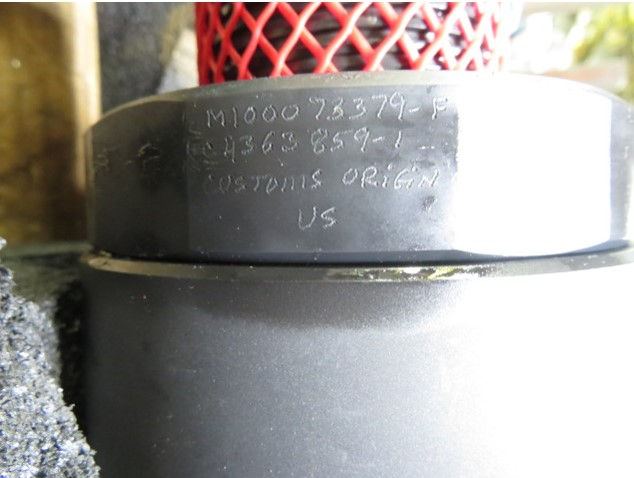character: (317, 203, 345, 234), (294, 202, 320, 234), (417, 166, 445, 193), (387, 89, 409, 121), (307, 127, 329, 157), (431, 94, 455, 121), (259, 128, 280, 158), (280, 97, 303, 124), (206, 106, 229, 131), (280, 171, 306, 193), (371, 90, 390, 120), (348, 96, 370, 121), (331, 128, 352, 154), (352, 125, 372, 152), (310, 93, 329, 121), (281, 128, 300, 155), (329, 94, 348, 121), (248, 170, 266, 197), (340, 164, 360, 188), (359, 165, 379, 189), (308, 167, 326, 191), (392, 126, 408, 153), (240, 133, 258, 157), (201, 172, 218, 196), (262, 100, 280, 122), (381, 162, 395, 190), (394, 164, 407, 194), (244, 103, 260, 127), (228, 105, 244, 129), (233, 171, 248, 196), (217, 174, 234, 196), (408, 164, 420, 193), (266, 172, 279, 196)
